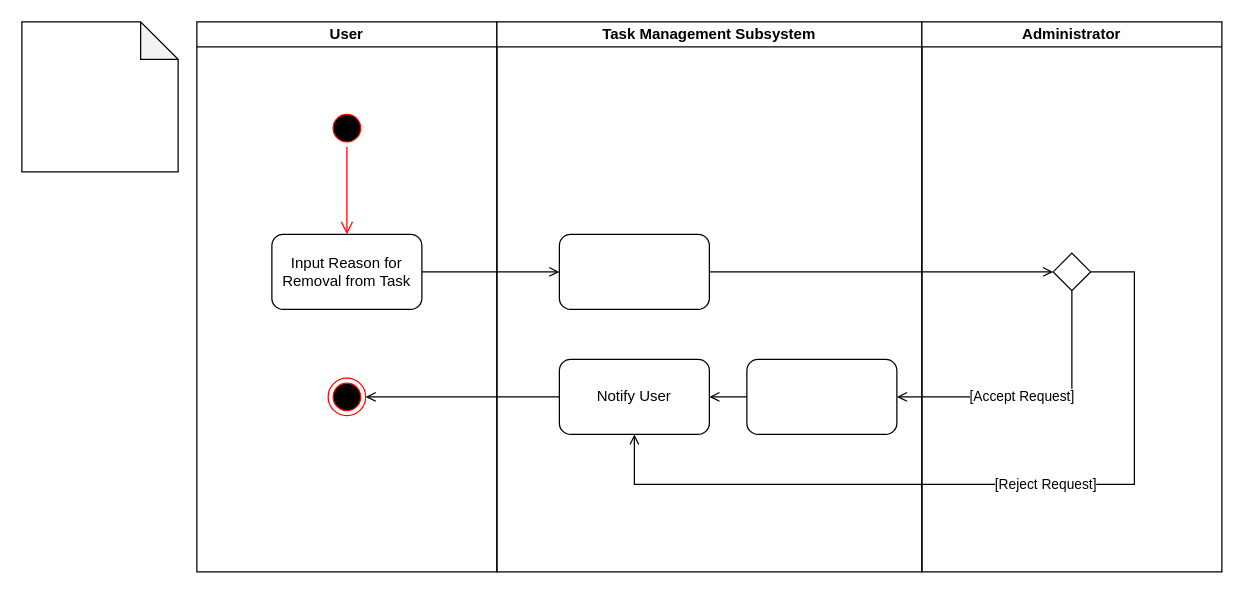
Some shapes in this 1244 by 594 pixel diagram are drawn without their labels. Each missing label, with the centre of its shape:
Notify Administrator of Request: [633,271]
Remove User from Task: [821,396]
Users can be Employees, Contractors and Supervisors.: [99,96]
